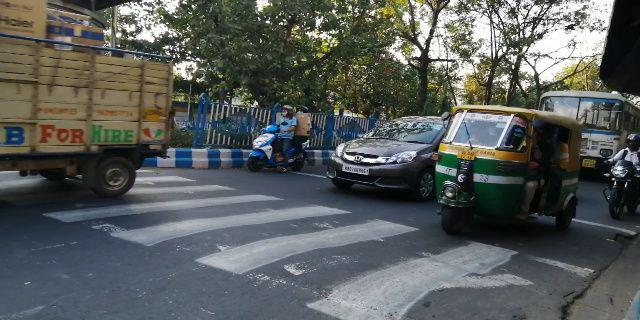Autorickshaw: (431, 104, 581, 239)
Bus: (535, 86, 625, 171)
Car: (331, 108, 440, 197)
Minitruck: (1, 30, 179, 195)
Motorbike: (245, 102, 317, 178), (604, 131, 640, 226)
